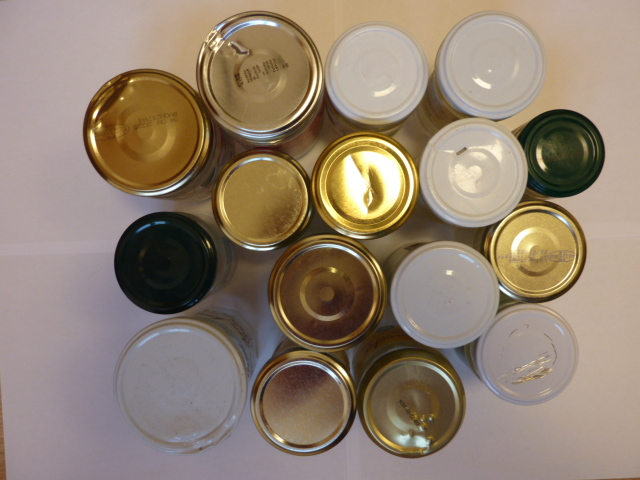damaged: (419, 118, 527, 226), (312, 132, 417, 240)
intact: (115, 212, 217, 314)
